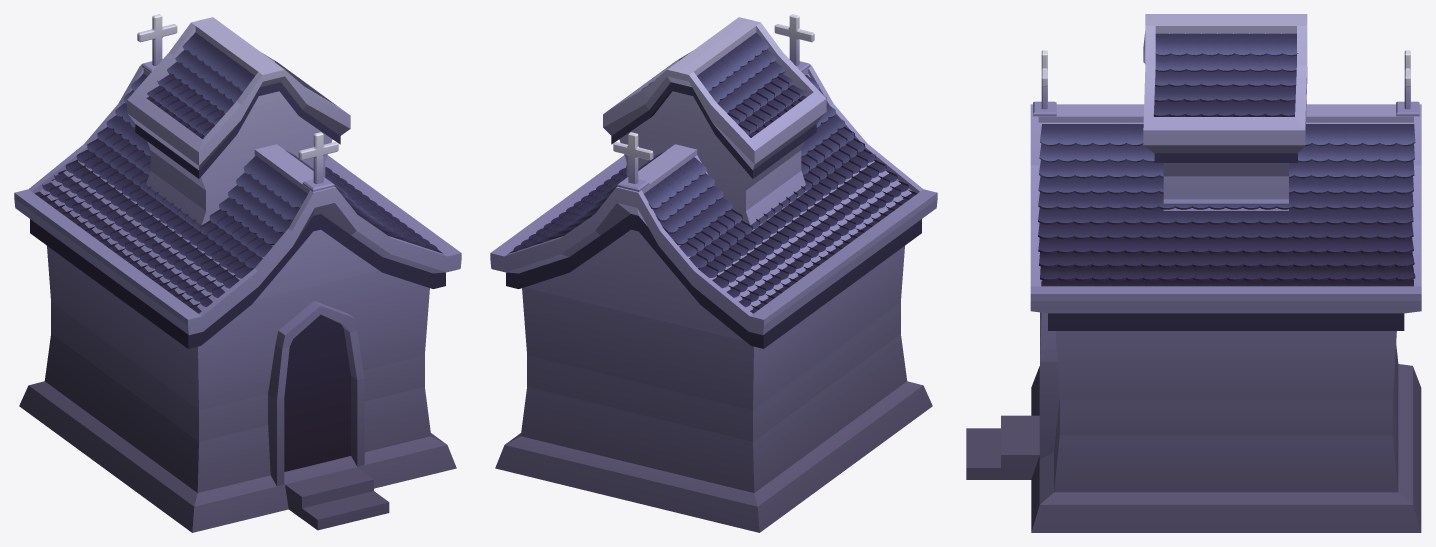
Rendered from mausoleum.fbx.
3 renders of one model, left to right at view 1: azimuth 30°, elevation 25°; view 2: azimuth 150°, elevation 25°; view 3: azimuth 270°, elevation 25°, orthographic. The views are drawn at different scales.
Parts seen in each view (by area): view 1: Cube, shingles.001, Cross1; view 2: Cube, shingles.001, Cross1; view 3: Cube, shingles.001, Cross1.
Boxes of the visible parts, bbox=[...] form: Cube: bbox=[14, 17, 461, 532]; shingles.001: bbox=[34, 32, 441, 313]; Cross1: bbox=[137, 14, 338, 191]; Cube: bbox=[490, 17, 937, 532]; shingles.001: bbox=[509, 32, 917, 313]; Cross1: bbox=[613, 14, 814, 191]; Cube: bbox=[966, 14, 1421, 532]; shingles.001: bbox=[1038, 33, 1415, 286]; Cross1: bbox=[1033, 50, 1419, 116].
Size of the model in its own units: 30.15 by 41.2 by 38.63.
